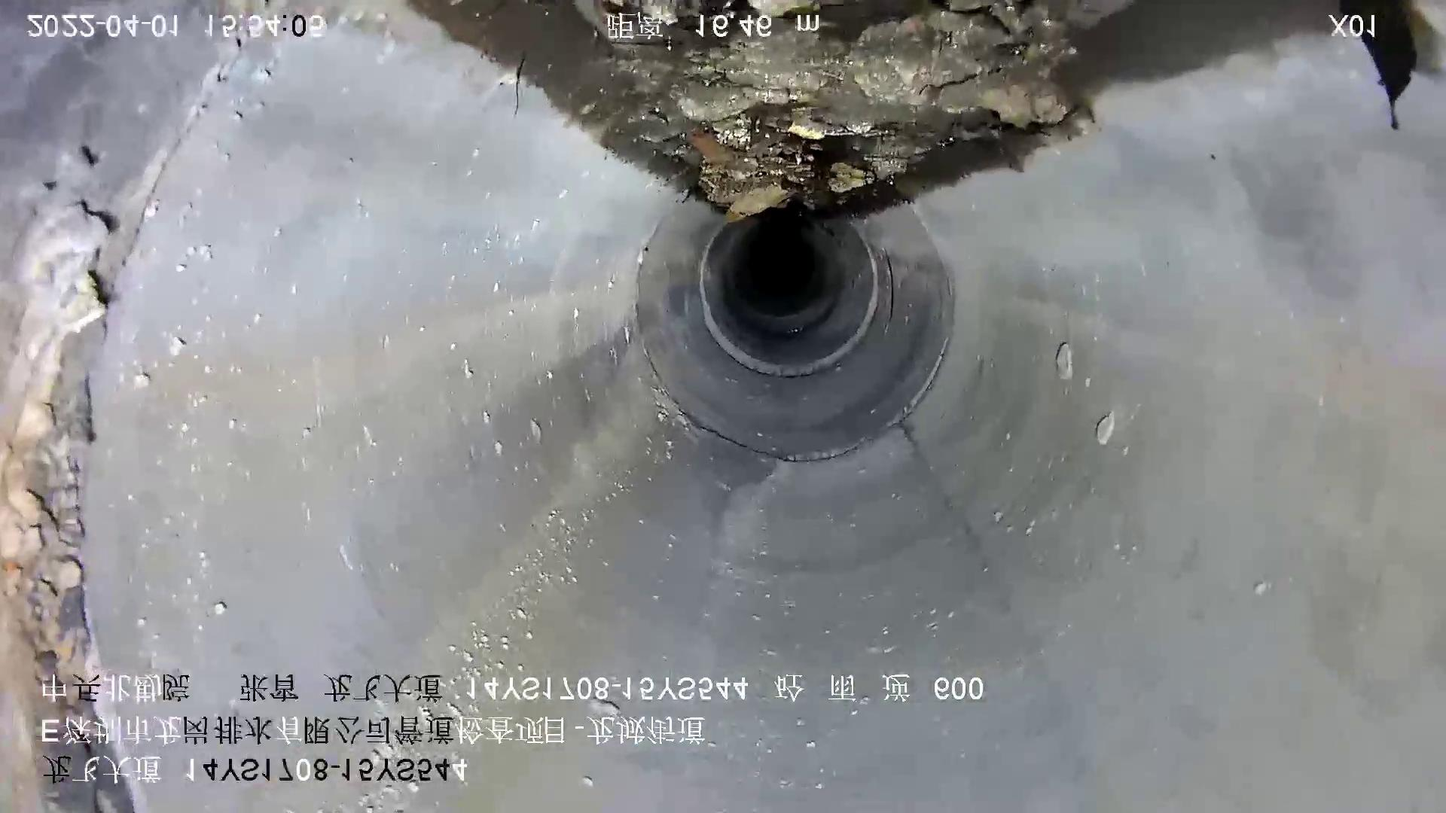CJ: (409, 1, 1338, 215)
CKTJ: (624, 192, 960, 468), (693, 208, 885, 382)
